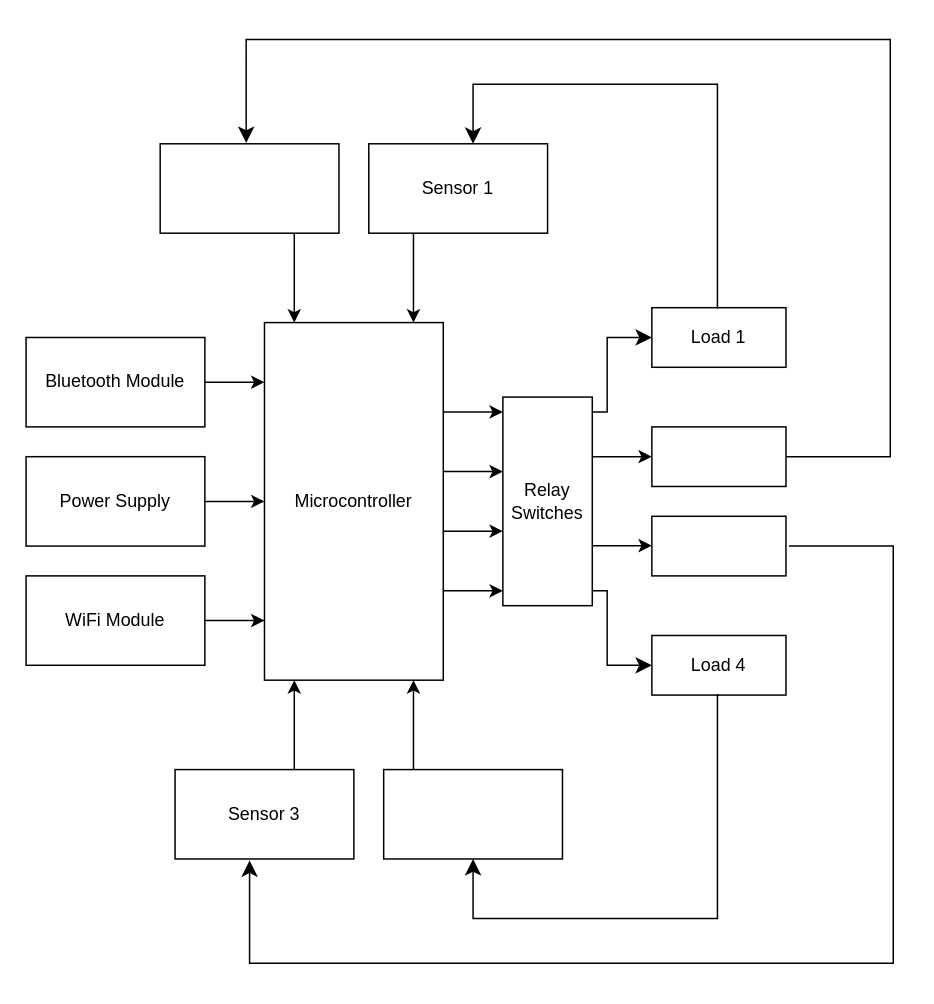
Image size: 934x1004. Some labels were removed from this diagram. Here are the shapes that lost their labels. From the top down, the centre of each, then its label:
[249,187]: Sensor 2
[718,455]: Load 2
[718,545]: Load 3
[472,813]: Sensor 4
